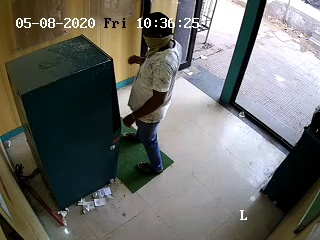open: (134, 2, 255, 109)
